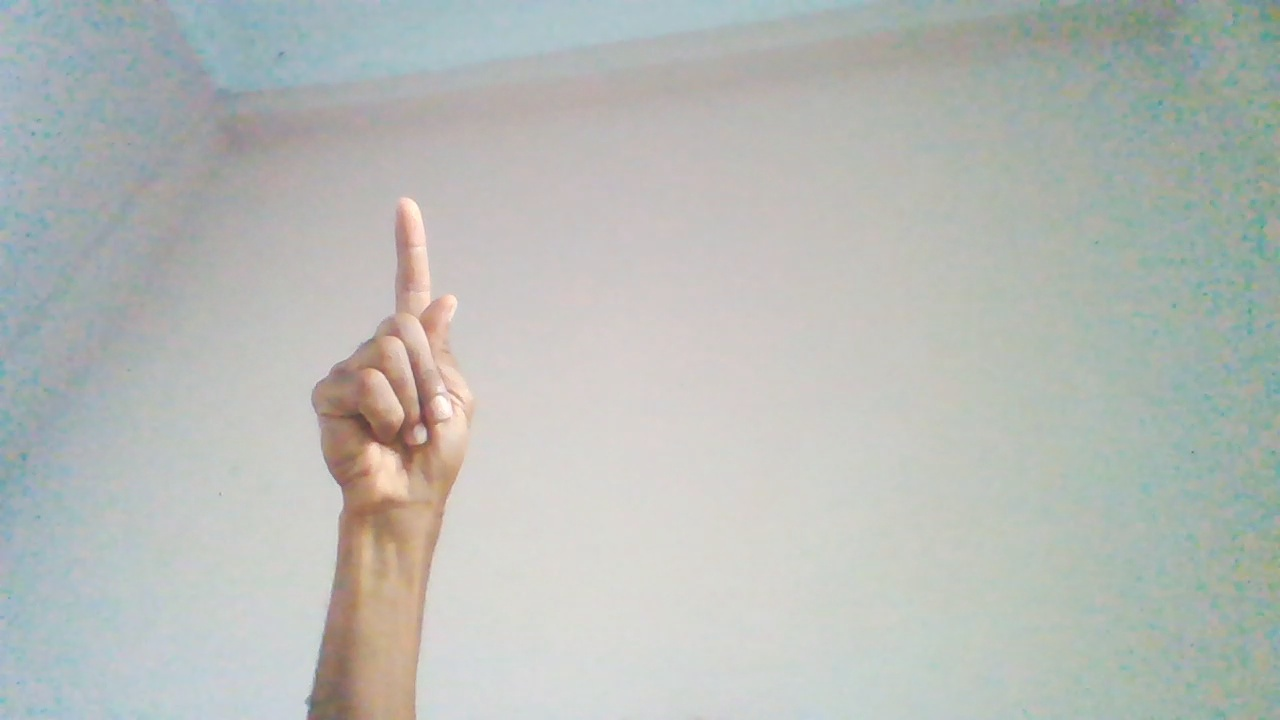ne: (310, 194, 473, 594)
